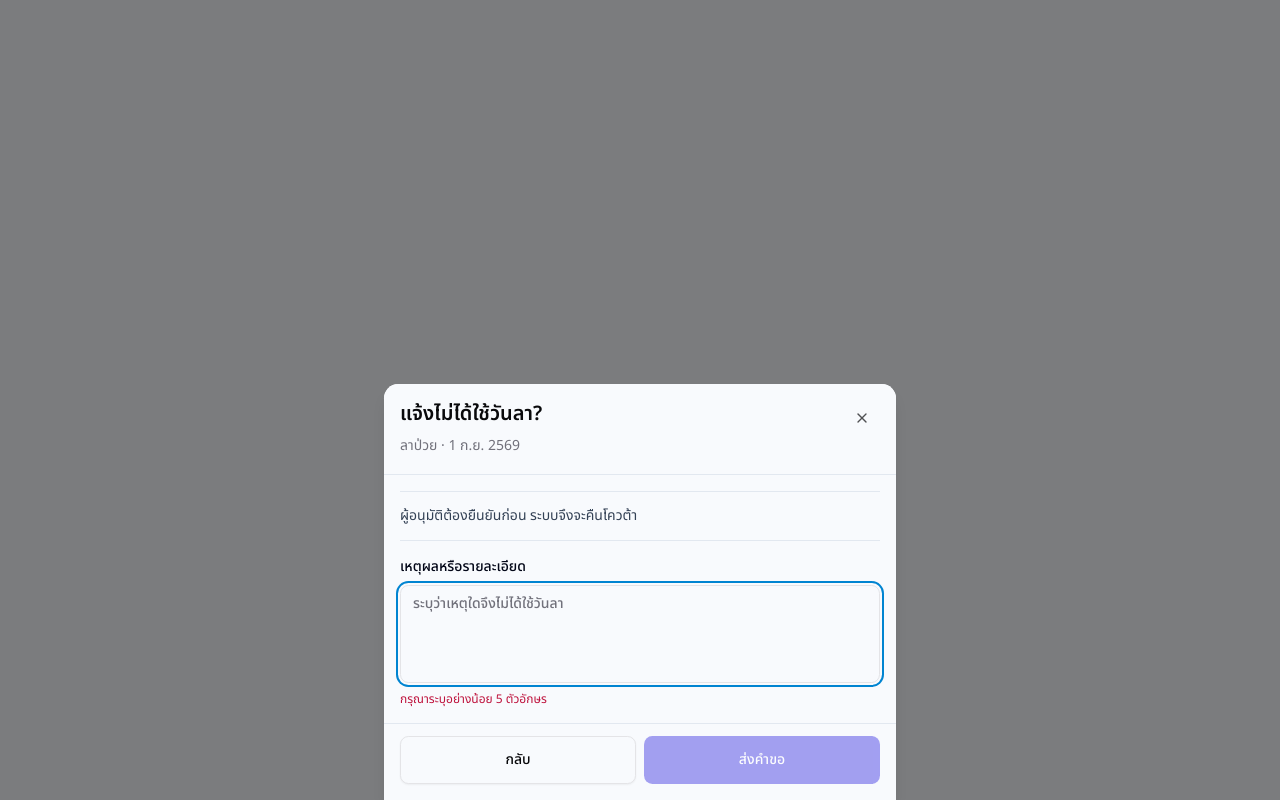
Test: LIFF Leave mobile components › keeps the not-taken request reason minimum at five characters
In the text box with placeholder "ระบุว่าเหตุใดจึงไม่ได้ใช้วันลา": (640, 634) 400,585 -> 880,683, type "abcd"
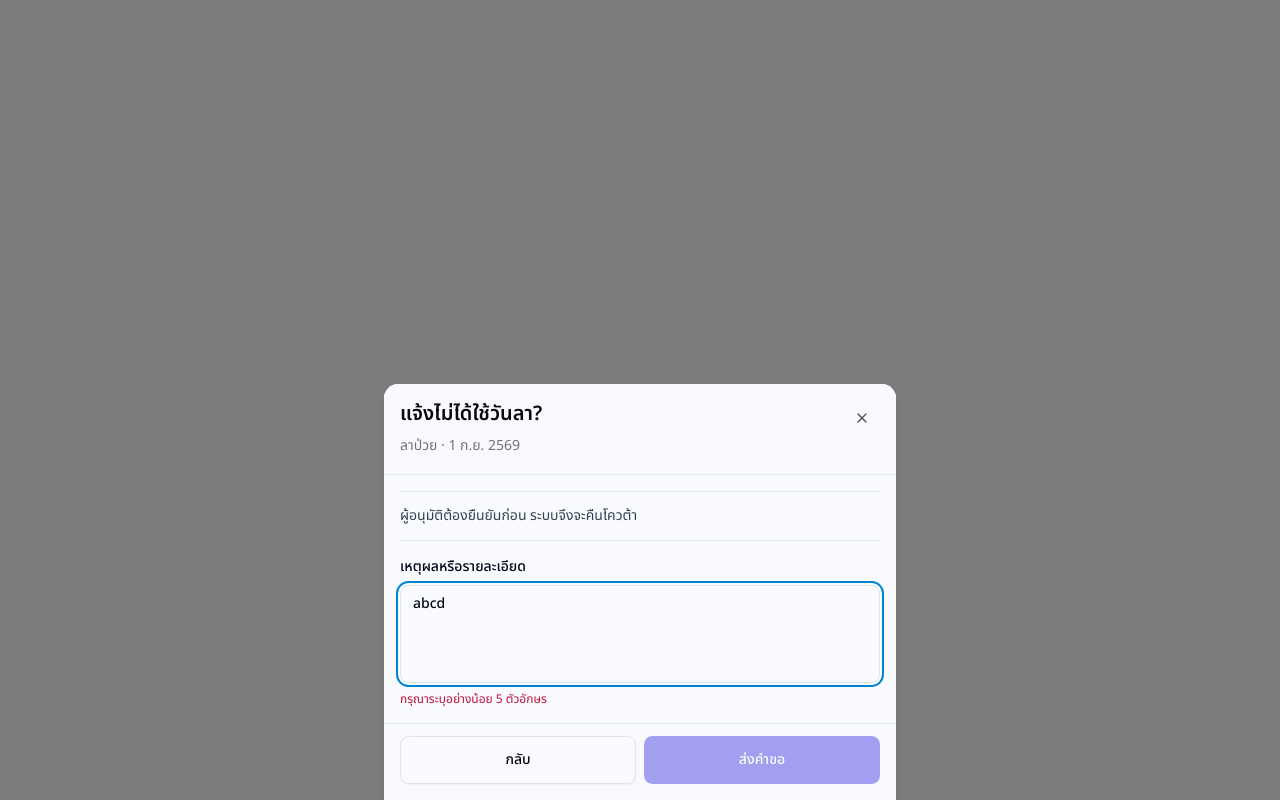
Expected: the button "ส่งคำขอ" is disabled, 644,736 -> 880,784
Replace the text in the text box with placeholder "ระบุว่าเหตุใดจึงไม่ได้ใช้วันลา" with "abcde": (640, 634) 400,585 -> 880,683
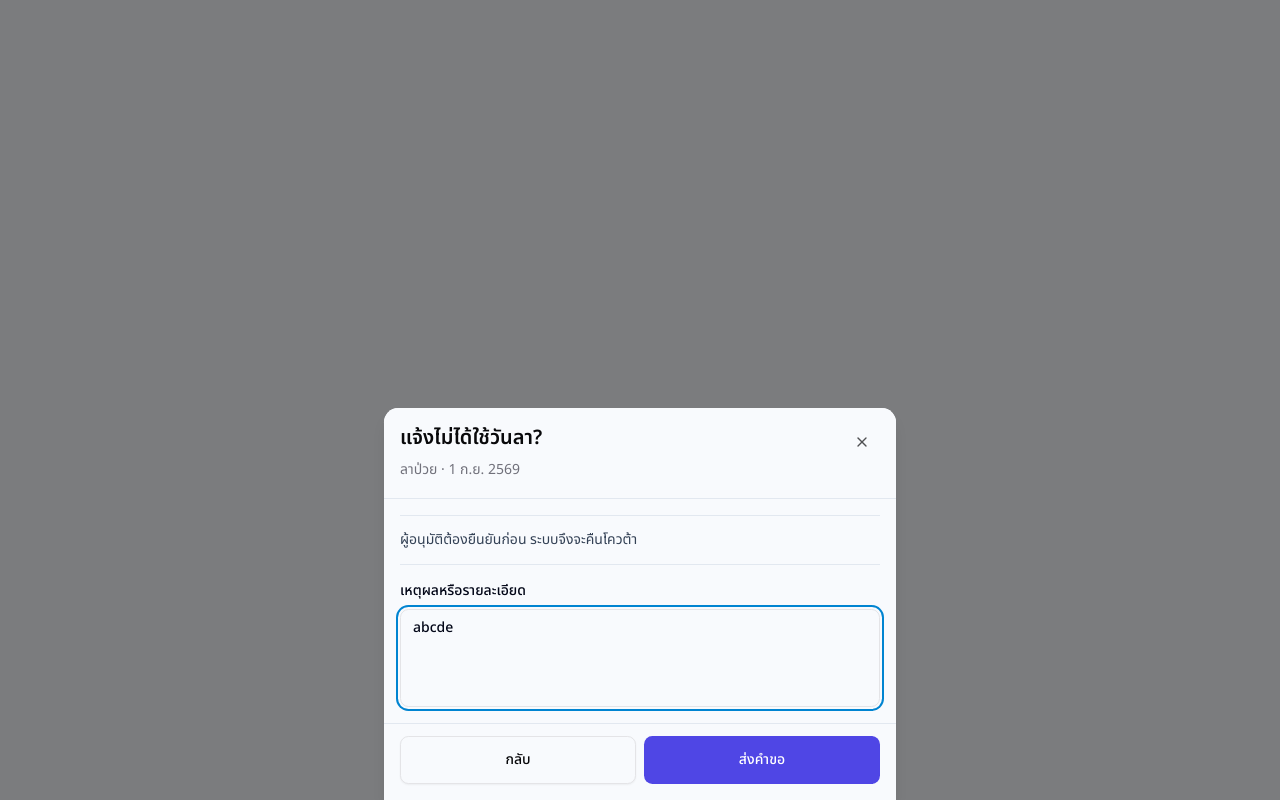
Now the button "ส่งคำขอ" is enabled, box 644,736 -> 880,784
